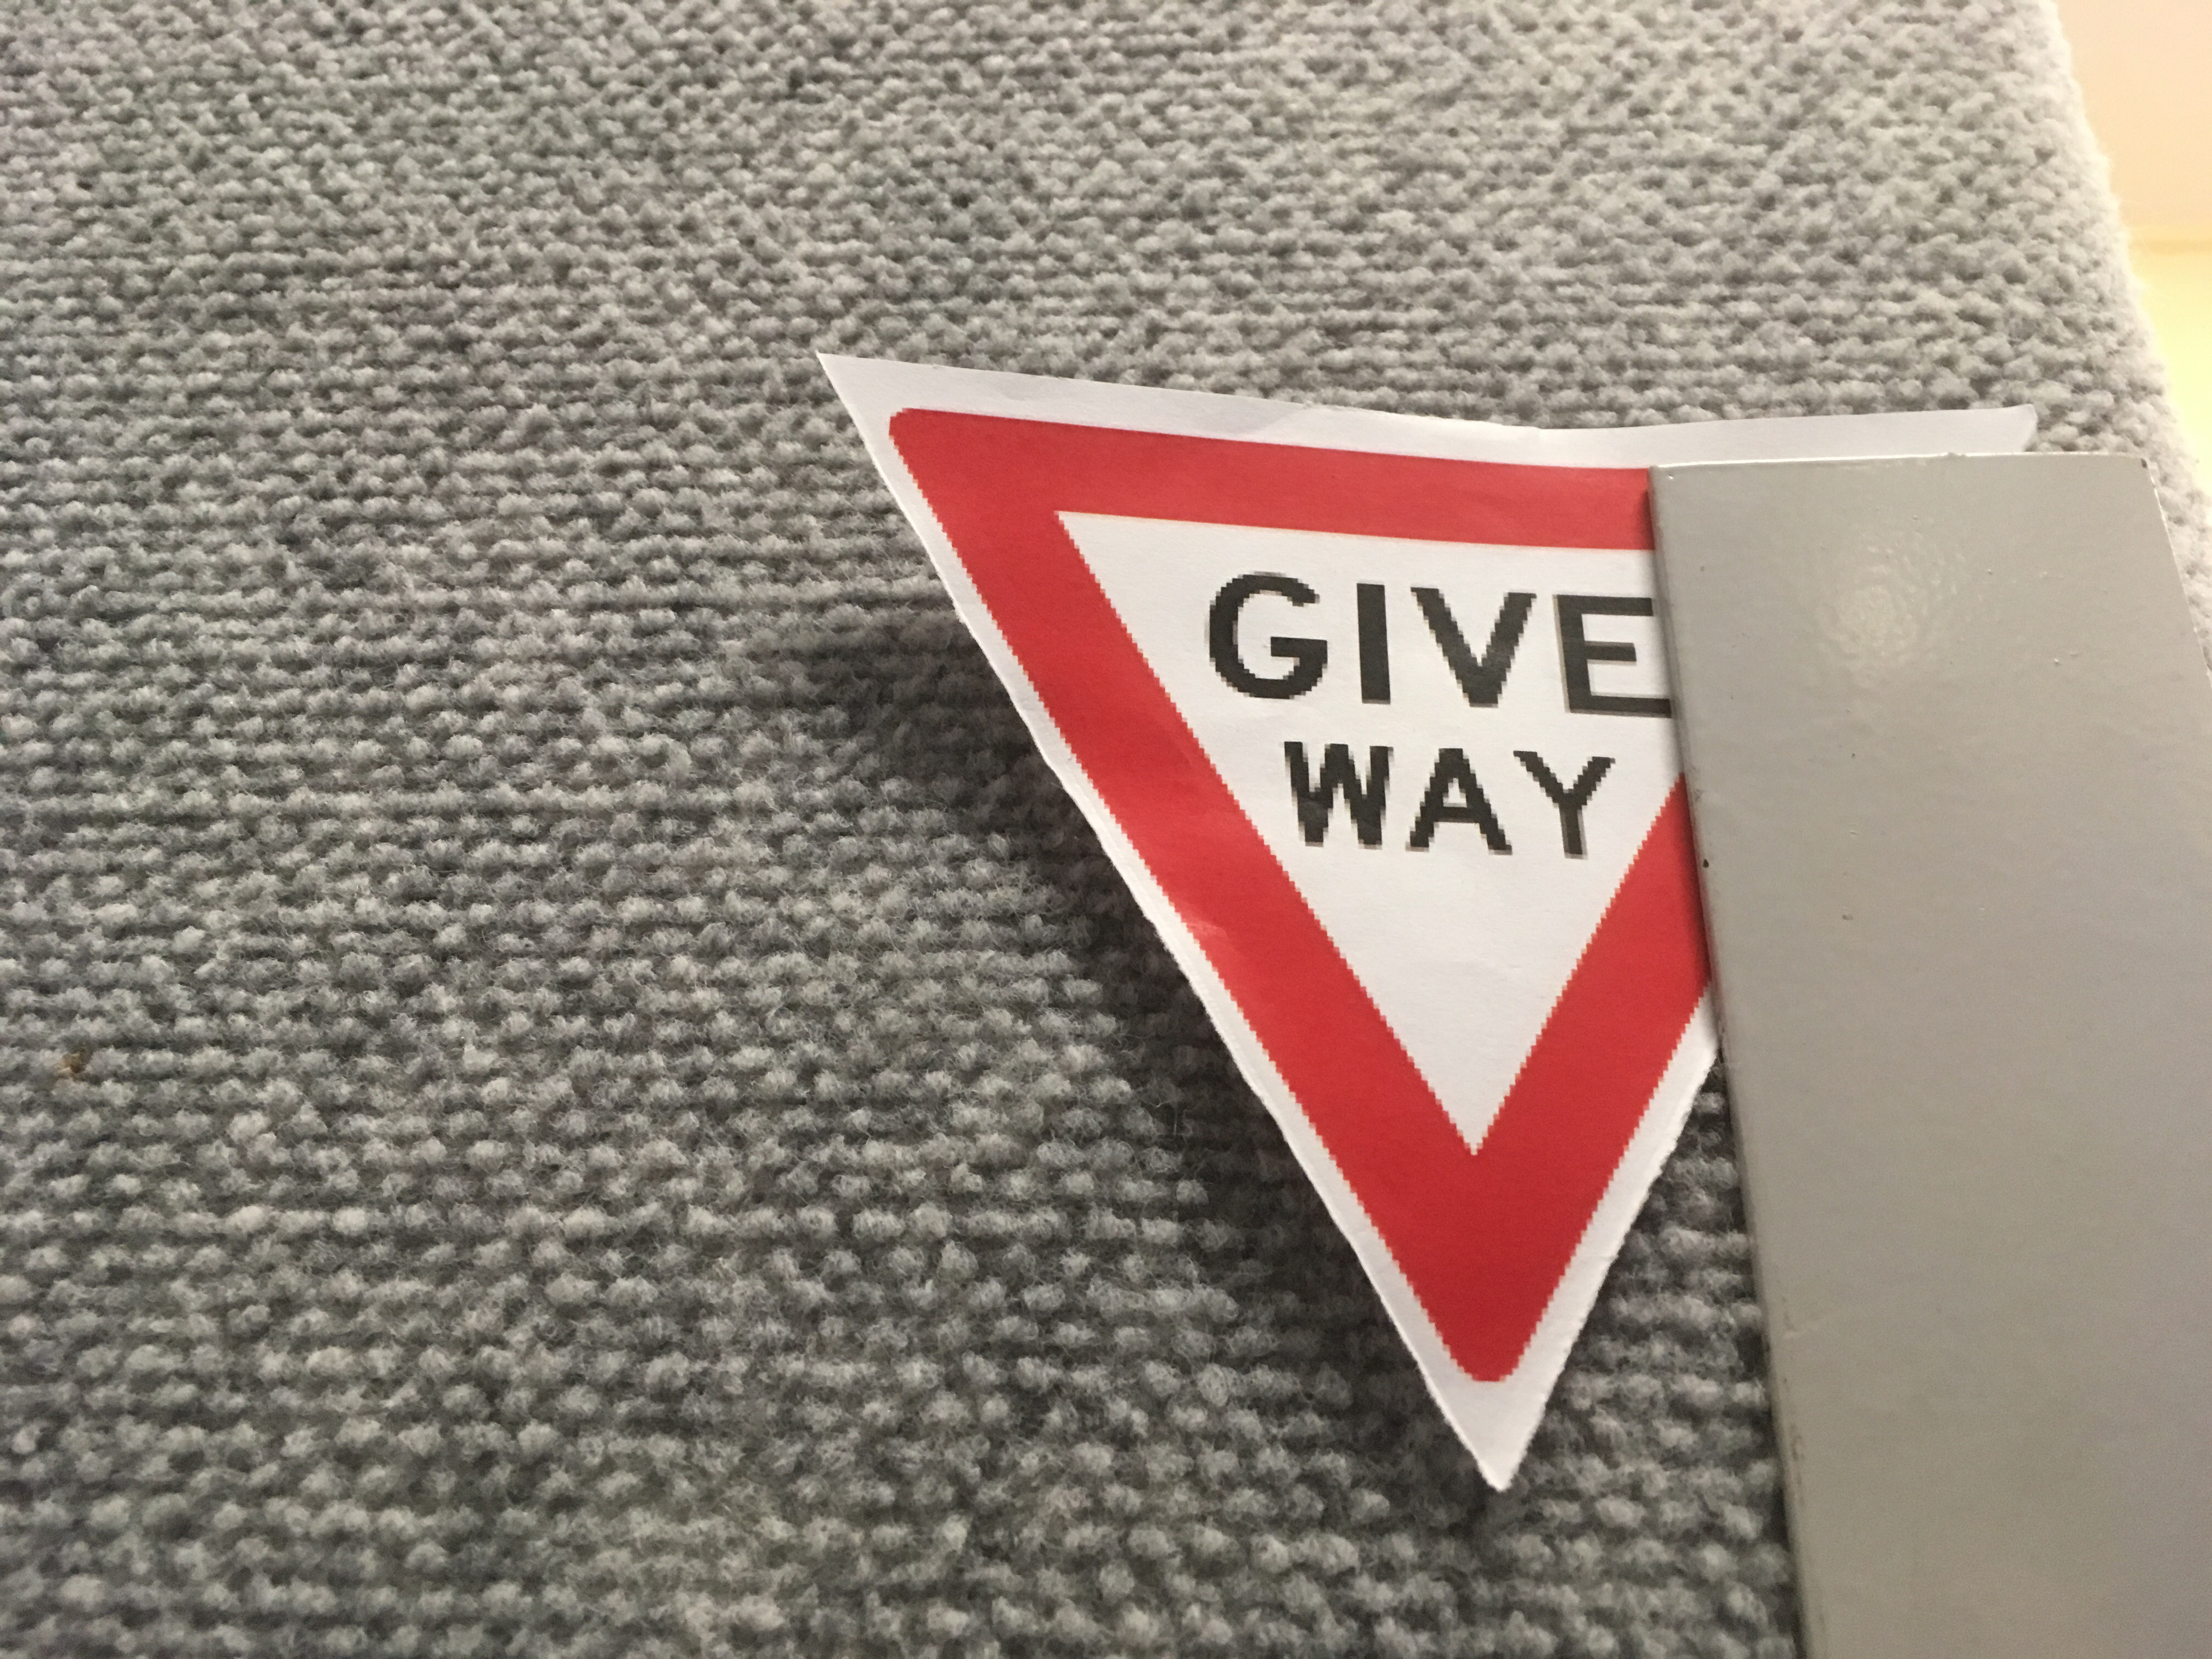giveway: (833, 371, 1886, 1485), (899, 413, 1787, 1431), (1426, 432, 1841, 1375), (874, 401, 1723, 824)
